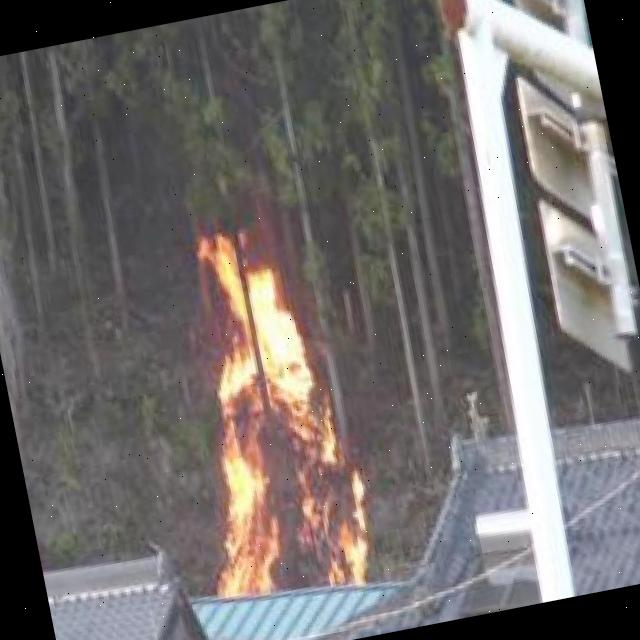fire: (162, 226, 380, 606)
